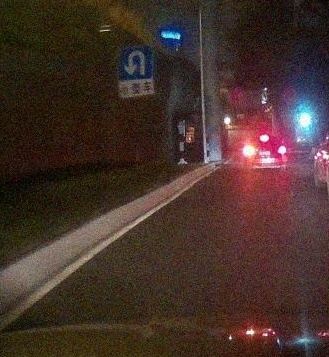L_light: (246, 148, 255, 153)
R_light: (278, 147, 286, 153)
T_light: (260, 137, 269, 141)
night-left: (245, 136, 287, 171)
